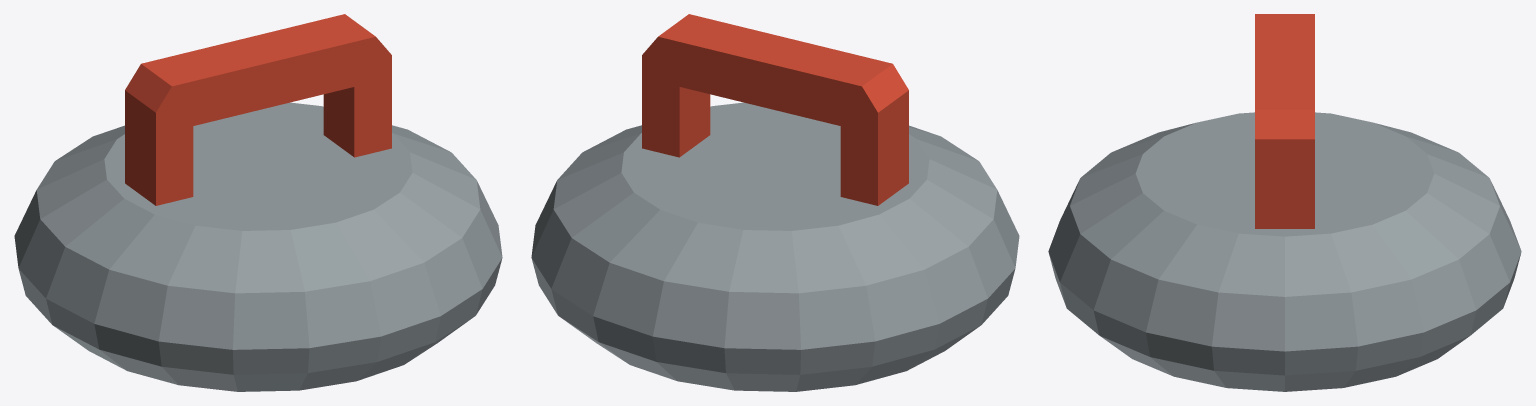
The picture shows the model from 3 angles, left to right: view 1: azimuth 30°, elevation 25°; view 2: azimuth 150°, elevation 25°; view 3: azimuth 270°, elevation 25°; orthographic projection. The views are drawn at different scales.
Visible parts, largest first — view 1: WholeLowConvexFacetedStone, WholeChamferedBridgeGrip; view 2: WholeLowConvexFacetedStone, WholeChamferedBridgeGrip; view 3: WholeLowConvexFacetedStone, WholeChamferedBridgeGrip.
Part boxes in pixels (x1,y1,x2,y2): WholeLowConvexFacetedStone: (14,102,502,391); WholeChamferedBridgeGrip: (125,14,391,205); WholeLowConvexFacetedStone: (531,102,1019,391); WholeChamferedBridgeGrip: (642,14,908,205); WholeLowConvexFacetedStone: (1048,112,1521,391); WholeChamferedBridgeGrip: (1255,14,1314,228).
Bounding box in the file's own units: 0.396 × 0.245 × 0.396.
